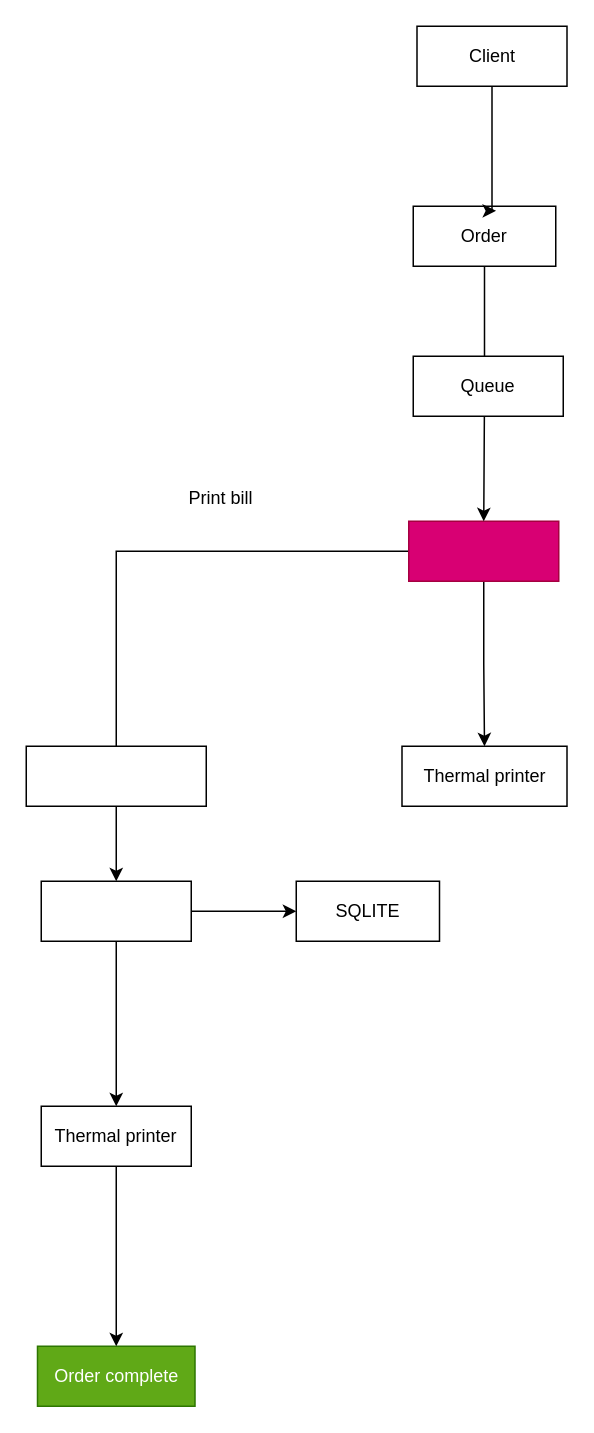
Image size: 594x1433. Some labels were removed from this diagram. The shapes that lost their labels are listed below. From the top down, each one's centre as x and y in pixels, then its label:
At (x=483, y=550): "DInapoli Pizza".
At (x=115, y=775): "Payment process module".
At (x=115, y=910): "Billing module".
